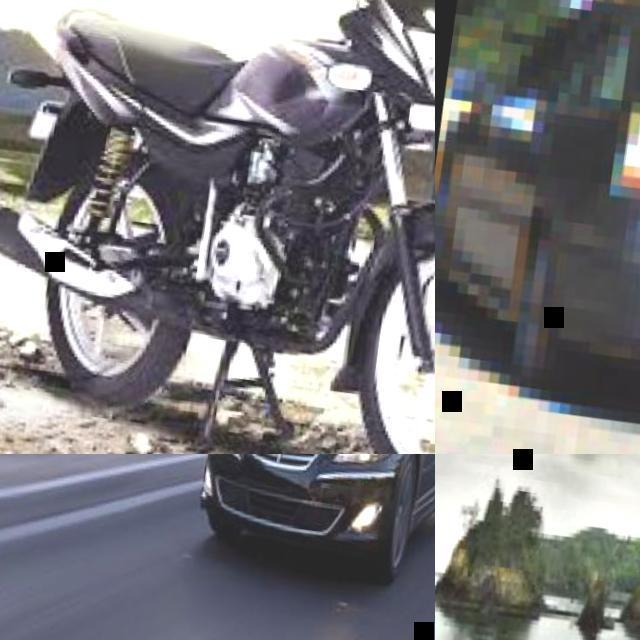car: (190, 13, 435, 585)
